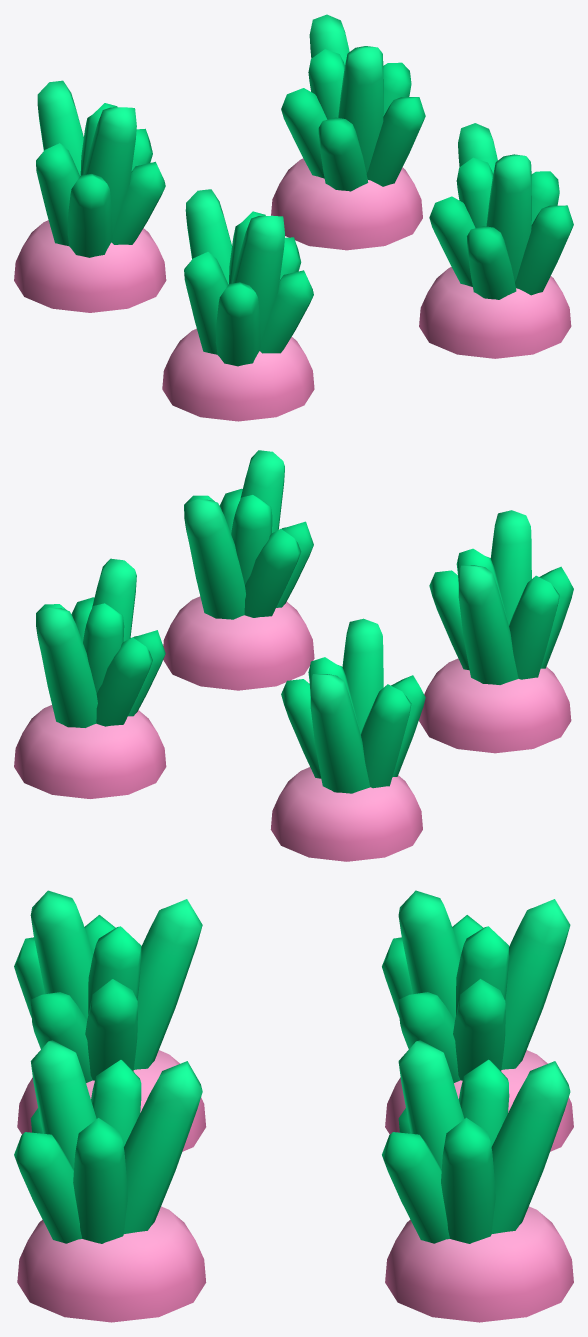
The model's file is Farm_Crop_Beet_Step_02.fbx.
The picture shows the model from 3 angles, top to bottom: view 1: azimuth 30°, elevation 25°; view 2: azimuth 150°, elevation 25°; view 3: azimuth 270°, elevation 25°; orthographic projection. The views are drawn at different scales.
Parts seen in each view (by area): view 1: Farm_Crop_Beet_Step_02; view 2: Farm_Crop_Beet_Step_02; view 3: Farm_Crop_Beet_Step_02.
Part boxes in pixels (x1,y1,x2,y2): Farm_Crop_Beet_Step_02: (14, 14, 573, 421); Farm_Crop_Beet_Step_02: (14, 450, 573, 861); Farm_Crop_Beet_Step_02: (14, 890, 573, 1322).
Bounding box in the file's own units: 151 × 70.75 × 152.
